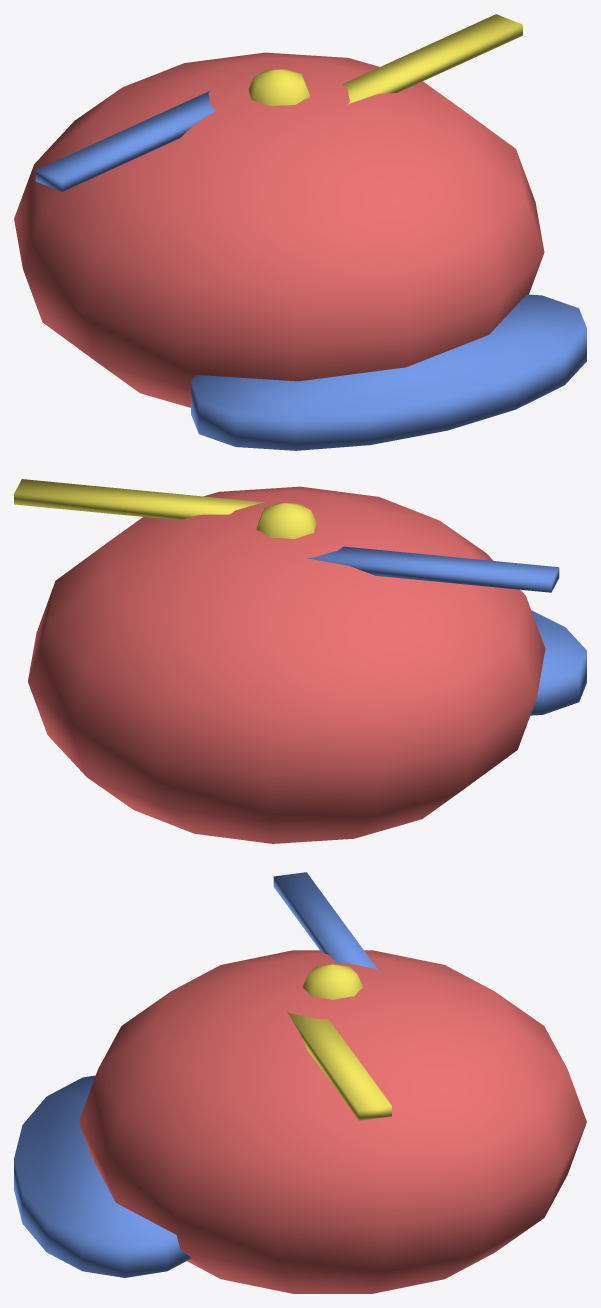
Rendered from hat_propeller.glb.
3 renders of one model, top to bottom at view 1: azimuth 30°, elevation 25°; view 2: azimuth 150°, elevation 25°; view 3: azimuth 270°, elevation 25°, orthographic. The views are drawn at different scales.
Parts seen in each view (by area): view 1: hat_propeller; view 2: hat_propeller; view 3: hat_propeller.
Part boxes in pixels (x1,y1,x2,y2): hat_propeller: (14,14,586,450); hat_propeller: (14,479,586,843); hat_propeller: (14,872,586,1293).
Bounding box in the file's own units: 0.4877 × 0.282 × 0.496.
